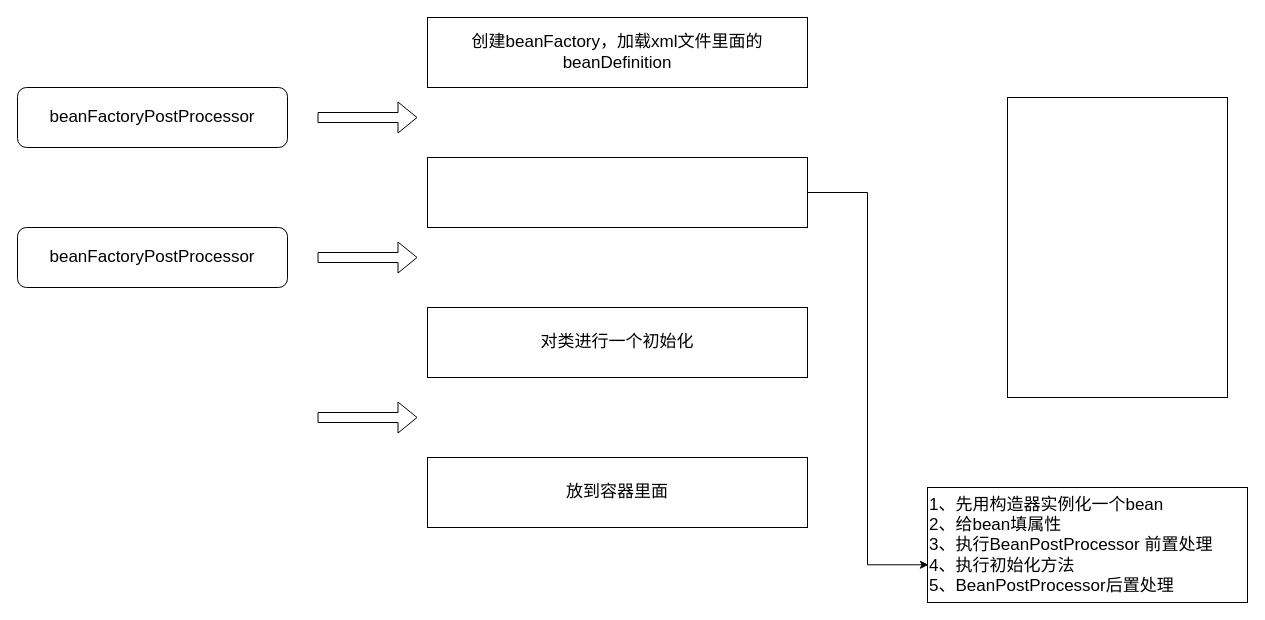
This 1265x620 diagram has some shape labels left out. The centre of each missing label's shape, as x and y in pixels:
1、bean的生命周期管理: the point at 1117,247
根据beanDefinition对类进行一个实例化: the point at 617,192
